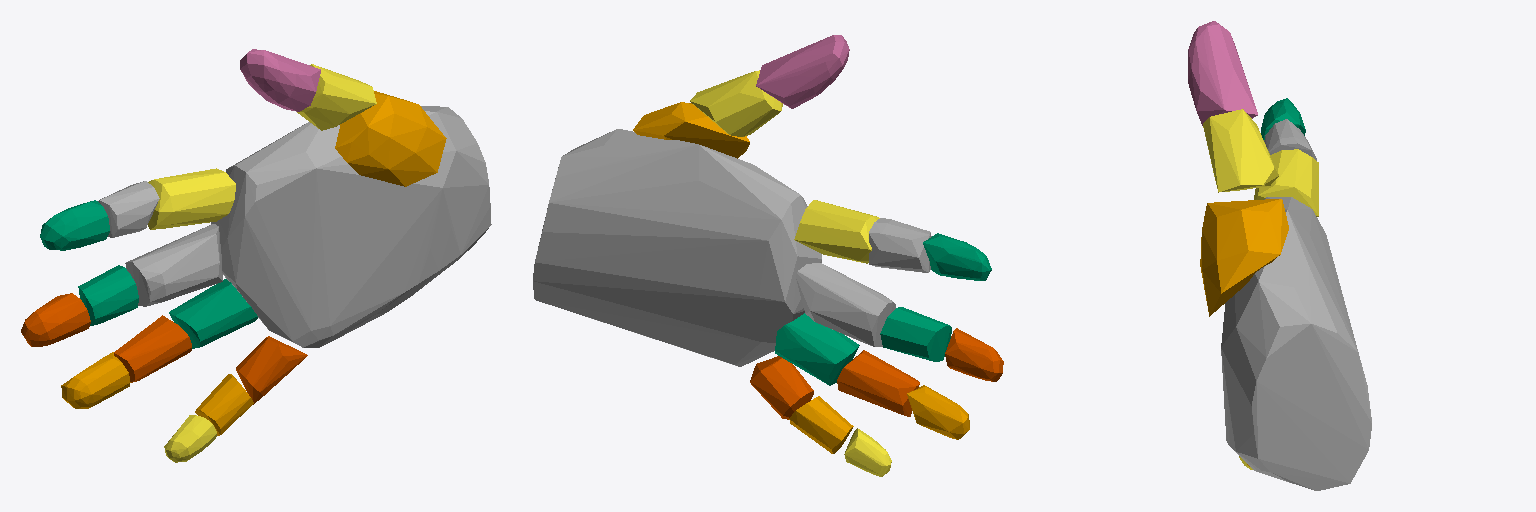
--- Render facts (derived) ---
The picture shows the robot from 3 angles, left to right: view 1: azimuth 30°, elevation 25°; view 2: azimuth 150°, elevation 25°; view 3: azimuth 270°, elevation 25°; orthographic projection.
Model mano with 64 links and 63 joints (48 revolute, 3 prismatic, 12 fixed), rooted at world, posed every joint at zero.
Links seen in each view (by area): view 1: link_palm_rz, link_th_pm_z, link_mf_pm_z, link_ff_pm_z, link_th_dd_z, link_rf_pm_z, link_rf_md_z, link_th_md_z, link_ff_dd_z, link_mf_dd_z, link_lf_pm_z, link_mf_md_z (+4 smaller); view 2: link_palm_rz, link_mf_pm_z, link_th_dd_z, link_rf_pm_z, link_ff_pm_z, link_th_md_z, link_th_pm_z, link_rf_md_z, link_mf_md_z, link_ff_md_z, link_lf_pm_z, link_ff_dd_z (+4 smaller); view 3: link_palm_rz, link_th_pm_z, link_th_dd_z, link_th_md_z, link_ff_pm_z, link_ff_md_z, link_ff_dd_z.
Boxes of the visible links, left/top/right/bottom form: link_palm_rz: left=211, top=106, right=491, bottom=347; link_th_pm_z: left=335, top=91, right=446, bottom=186; link_mf_pm_z: left=125, top=224, right=222, bottom=306; link_ff_pm_z: left=148, top=168, right=235, bottom=229; link_th_dd_z: left=240, top=49, right=320, bottom=111; link_rf_pm_z: left=169, top=279, right=257, bottom=348; link_rf_md_z: left=114, top=315, right=191, bottom=382; link_th_md_z: left=297, top=64, right=376, bottom=130; link_ff_dd_z: left=40, top=200, right=109, bottom=250; link_mf_dd_z: left=21, top=293, right=90, bottom=346; link_lf_pm_z: left=236, top=336, right=307, bottom=404; link_mf_md_z: left=78, top=265, right=138, bottom=325; link_palm_rz: left=533, top=129, right=821, bottom=366; link_mf_pm_z: left=796, top=263, right=895, bottom=346; link_th_dd_z: left=756, top=35, right=849, bottom=108; link_rf_pm_z: left=775, top=313, right=859, bottom=385; link_ff_pm_z: left=794, top=200, right=879, bottom=263; link_th_md_z: left=690, top=70, right=782, bottom=136; link_th_pm_z: left=633, top=102, right=749, bottom=158; link_rf_md_z: left=837, top=350, right=919, bottom=416; link_mf_md_z: left=880, top=307, right=951, bottom=361; link_ff_md_z: left=869, top=218, right=931, bottom=272; link_lf_pm_z: left=750, top=356, right=813, bottom=419; link_ff_dd_z: left=923, top=233, right=991, bottom=280; link_palm_rz: left=1221, top=197, right=1371, bottom=490; link_th_pm_z: left=1200, top=199, right=1288, bottom=316; link_th_dd_z: left=1188, top=21, right=1257, bottom=125; link_th_md_z: left=1203, top=109, right=1278, bottom=192; link_ff_pm_z: left=1254, top=149, right=1318, bottom=216; link_ff_md_z: left=1264, top=119, right=1316, bottom=160; link_ff_dd_z: left=1261, top=98, right=1305, bottom=139.
Bounding box of the posed robot: 0.1951 × 0.0594 × 0.1689 m (x, y, z).
Meshes: 16 distinct files referenced, 16 mesh visuals loaded (16 OBJ).

The robot description file, URDF, robot "mano":
<?xml version="0.0" ?>
<robot name="mano">



  <link name="world">  </link>

  <joint name="world_to_base" type="fixed">
    <axis xyz="0 0 0"/>
    <origin xyz="0.0 0.0 0.0"/>
    <parent link="world"/>
    <child link="sliderBar"/>
  </joint>

  <link name="sliderBar">
    <inertial>
      <mass value="0"/>
      <inertia ixx="1.0" ixy="0.0" ixz="0.0" iyy="1.0" iyz="0.0" izz="1.0"/>
    </inertial>
  </link>

    <!--
      Palm
    -->
    <!-- Palm -->
    <link name="palm">
		<inertial>
			<origin rpy="1.58112 0.01503 1.64315" xyz="-0.03429 -0.00198 0.00005"/>
			<mass value="0.05042"/>
			<inertia ixx="0.00043" ixy="0" ixz="0" iyy="0.00029" iyz="0" izz="0.00020"/>
		</inertial>
    </link>

    <link name="link_palm_y">
        <inertial>
            <origin rpy="0.00000 -0.00000 0.00000" xyz="0.00000 0.00000 0.00000"/>
            <mass value="0.00000"/>
            <inertia ixx="0.00000" ixy="0" ixz="0" iyy="0.00000" iyz="0" izz="0.00000"/>
        </inertial>
    </link>
    <link name="link_palm_z">
        <inertial>
            <origin rpy="0.00000 -0.00000 0.00000" xyz="0.00000 0.00000 0.00000"/>
            <mass value="0.00000"/>
            <inertia ixx="0.00000" ixy="0" ixz="0" iyy="0.00000" iyz="0" izz="0.00000"/>
        </inertial>
    </link>
    <link name="link_palm_rx">
        <inertial>
            <origin rpy="0.00000 -0.00000 0.00000" xyz="0.00000 0.00000 0.00000"/>
            <mass value="0.00000"/>
            <inertia ixx="0.00000" ixy="0" ixz="0" iyy="0.00000" iyz="0" izz="0.00000"/>
        </inertial>
    </link>
    <link name="link_palm_ry">
        <inertial>
            <origin rpy="0.00000 -0.00000 0.00000" xyz="0.00000 0.00000 0.00000"/>
            <mass value="0.00000"/>
            <inertia ixx="0.00000" ixy="0" ixz="0" iyy="0.00000" iyz="0" izz="0.00000"/>
        </inertial>
    </link>
    <link name="link_palm_rz">
        <inertial>
            <origin rpy="0.00000 -0.00000 0.00000" xyz="0.00000 0.00000 0.00000"/>
            <mass value="0.00001"/>
            <inertia ixx="0.00000" ixy="0" ixz="0" iyy="0.00000" iyz="0" izz="0.00000"/>
        </inertial>
        <visual>
            <origin rpy="0 0 0.0" xyz="0 0 0"/>
            <geometry>
                <mesh filename="meshes/palm_mean.obj" scale="1 1 1"/>
            </geometry>
        </visual>
        <collision>
            <origin rpy="0 0 0.0" xyz="0 0 0"/>
            <geometry>
                <mesh filename="meshes/palm_mean.obj" scale="1 1 1"/>
            </geometry>
          <material name="">
            <contact name="finger"/>
          </material>
        </collision>
    </link>
    <!-- Hip joint -->
   <joint name="WRJ0x" type="prismatic">
        <parent link="sliderBar"/>
        <child link="palm"/>
        <origin xyz="0.0 0.0 0.0"/>
        <axis xyz="1 0 0"/>
        <limit effort="100.0" lower="-0.5" upper="0.5" />
        <dynamics damping="10.0" friction="0.0001"/>
    </joint>
    <joint name="WRJ0y" type="prismatic">
        <parent link="palm"/>
        <child link="link_palm_y"/>
        <origin xyz="0.0 0.0 0.0"/>
        <axis xyz="0 1 0"/>
        <limit effort="100.0" lower="-0.5" upper="0.5" />
        <dynamics damping="10.0" friction="0.0001"/>
    </joint>
    <joint name="WRJ0z" type="prismatic">
        <parent link="link_palm_y"/>
        <child link="link_palm_z"/>
        <origin xyz="0.0 0.0 0.0"/>
        <axis xyz="0 0 1"/>
        <limit effort="100.0" lower="-0.5" upper="0.5"/>
        <dynamics damping="10.0" friction="0.0001"/>
    </joint>
    <joint name="WRJ0rx" type="revolute">
        <parent link="link_palm_z"/>
        <child link="link_palm_rx"/>
        <origin xyz="0.0 0.0 0.0"/>
        <axis xyz="1 0 0"/>
        <limit effort="1000" lower="-3.14" upper="3.14" />

        <dynamics   damping="1.0" friction="0.0001"/>
    </joint>
    <joint name="WRJ0ry" type="revolute">
        <parent link="link_palm_rx"/>
        <child link="link_palm_ry"/>
        <origin xyz="0.0 0.0 0.0"/>
        <axis xyz="0 1 0"/>
        <limit effort="1000" lower="-3.14" upper="3.14"  />

        <dynamics   damping="1.0" friction="0.0001"/>
    </joint>
    <joint name="WRJ0rz" type="revolute">
        <parent link="link_palm_ry"/>
        <child link="link_palm_rz"/>
        <origin xyz="0.0 0.0 0.0"/>
        <axis xyz="0 0 1"/>
        <limit effort="1000" lower="-3.14" upper="3.14"  />
        <dynamics   damping="1.0" friction="0.0001"/>
    </joint>


     <!-- FF -->
    <link name="fffixed">
        <inertial>
            <origin rpy="0.00000 -0.00000 0.00000" xyz="0.00000 0.00000 0.00000"/>
            <mass value="0.0"/>
            <inertia ixx="0.00000" ixy="0" ixz="0" iyy="0.00000" iyz="0" izz="0.00000"/>
        </inertial>
    </link>
    <!-- Fix Finger joint -->
    <joint name="Palm_FFJ2" type="fixed">
        <parent link="link_palm_rz"/>
        <child link="fffixed"/>
        <origin xyz="0.0 0.0 0.0"/>
    </joint>


    <link name="ffproximal">
		<inertial>
			<origin rpy="-0.62614 -1.47063 -2.57808" xyz="0.06969 0.00857 -0.01920"/>
			<mass value="0.00845"/>
			<inertia ixx="0.00000" ixy="0" ixz="0" iyy="0.00000" iyz="0" izz="0.00000"/>
		</inertial>
    </link>
    <link name="link_ff_pm_y">
        <inertial>
            <origin rpy="0.00000 -0.00000 0.00000" xyz="0.00000 0.00000 0.00000"/>
            <mass value="0.00000"/>
            <inertia ixx="0.00000" ixy="0" ixz="0" iyy="0.00000" iyz="0" izz="0.00000"/>
        </inertial>
    </link>
    <link name="link_ff_pm_z">
        <inertial>
            <origin rpy="0.00000 -0.00000 0.00000" xyz="0.00000 0.00000 0.00000"/>
            <mass value="0.00001"/>
            <inertia ixx="0.00000" ixy="0" ixz="0" iyy="0.00000" iyz="0" izz="0.00000"/>
        </inertial>
        <collision>
           <origin rpy="0 0 0.0" xyz="0 0 0"/>
           <geometry>
               <mesh filename="meshes/ffprox_mean.obj" scale="1 1 1"/>
           </geometry>
          <material name="">
            <contact name="finger"/>
          </material>
       </collision>
       <visual>
           <origin rpy="0 0 0.0" xyz="0 0 0"/>
           <geometry>
               <mesh filename="meshes/ffprox_mean.obj" scale="1 1 1"/>
           </geometry>
       </visual>
    </link>
    <!-- FF2 proximal joint -->
    <joint name="FFJ2" type="revolute">
        <parent link="fffixed"/>
        <child link="ffproximal"/>
        <origin xyz="-0.0880972 -0.00520036 0.020686"/>
        <axis xyz="1 0 0"/>
        <limit effort="1000" lower="-0.25000" upper="0.25000" />

        <dynamics   damping="1.0" friction="0.0001"/>
    </joint>
    <joint name="FFJ2_y" type="revolute">
        <parent link="ffproximal"/>
        <child link="link_ff_pm_y"/>
        <origin xyz="0 0 0"/>
        <axis xyz="0 1 0"/>
        <limit effort="1000" lower="-0.8" upper="0.8" />

        <dynamics   damping="1.0" friction="0.0001"/>
    </joint>
    <joint name="FFJ2_z" type="revolute">
        <parent link="link_ff_pm_y"/>
        <child link="link_ff_pm_z"/>
        <origin xyz="0 0 0"/>
        <axis xyz="0 0 1"/>
        <limit effort="1000" lower="-0.0" upper="1.57" />

        <dynamics   damping="1.0" friction="0.0001"/>
    </joint>

  <link name="ffmiddle_fixed">
        <inertial>
            <origin rpy="0.00000 -0.00000 0.00000" xyz="0.00000 0.00000 0.00000"/>
            <mass value="0.0"/>
            <inertia ixx="0.00000" ixy="0" ixz="0" iyy="0.00000" iyz="0" izz="0.00000"/>
        </inertial>
    </link>
    <link name="ffmiddle">
		<inertial>
			<origin rpy="1.37262 -0.25251 1.73296" xyz="0.10956 0.00102 -0.02288"/>
			<mass value="0.00413"/>
			<inertia ixx="0.00000" ixy="0" ixz="0" iyy="0.00000" iyz="0" izz="0.00000"/>
		</inertial>
    </link>
    <link name="link_ff_md_y">
        <inertial>
            <origin rpy="0.00000 -0.00000 0.00000" xyz="0.00000 0.00000 0.00000"/>
            <mass value="0.00000"/>
            <inertia ixx="0.00000" ixy="0" ixz="0" iyy="0.00000" iyz="0" izz="0.00000"/>
        </inertial>
    </link>
    <link name="link_ff_md_z">
        <inertial>
            <origin rpy="0.00000 -0.00000 0.00000" xyz="0.00000 0.00000 0.00000"/>
            <mass value="0.00001"/>
            <inertia ixx="0.00000" ixy="0" ixz="0" iyy="0.00000" iyz="0" izz="0.00000"/>
        </inertial>
        <collision>
           <origin rpy="0 0 0.0" xyz="0 0 0"/>
           <geometry>
               <mesh filename="meshes/ffmiddle_mean.obj" scale="1 1 1"/>
           </geometry>
          <material name="">
            <contact name="finger"/>
          </material>
       </collision>
       <visual>
           <origin rpy="0 0 0.0" xyz="0 0 0"/>
           <geometry>
               <mesh filename="meshes/ffmiddle_mean.obj" scale="1 1 1"/>
           </geometry>
       </visual>
    </link>
    <!-- FF1 joint -->
    <joint name="FFJ1_f" type="fixed">
        <parent link="link_ff_pm_z"/>
        <child link="ffmiddle_fixed"/>
        <origin xyz="-0.0326789 0.00400935 0.00221706"/>
        <axis xyz="1 0 0"/>
    </joint>
    <joint name="FFJ1" type="revolute">
        <parent link="ffmiddle_fixed"/>
        <child link="ffmiddle"/>
        <origin xyz="0.0 0.0 0.0"/>
        <axis xyz="1 0 0"/>
        <limit effort="1000" lower="-0.25000" upper="0.25000" />

        <dynamics   damping="1.0" friction="0.0001"/>
    </joint>
    <joint name="FFJ1_y" type="revolute">
        <parent link="ffmiddle"/>
        <child link="link_ff_md_y"/>
        <origin xyz="0.0 0.0 0.0"/>
        <axis xyz="0 1 0"/>
        <limit effort="1000" lower="-0.25000" upper="0.25000" />

        <dynamics   damping="1.0" friction="0.0001"/>
    </joint>
    <joint name="FFJ1_z" type="revolute">
        <parent link="link_ff_md_y"/>
        <child link="link_ff_md_z"/>
        <origin xyz="0.0 0.0 0.0"/>
        <axis xyz="0 0 1"/>
        <limit effort="1000" lower="-0.5000" upper="1.57" />

        <dynamics   damping="1.0" friction="0.0001"/>
    </joint>

    <link name="ffdistal">
		<inertial>
			<origin rpy="1.46564 0.28965 1.52696" xyz="0.13180 0.00199 -0.02293"/>
			<mass value="0.00293"/>
			<inertia ixx="0.00000" ixy="0" ixz="0" iyy="0.00000" iyz="0" izz="0.00000"/>
		</inertial>
    </link>
    <link name="link_ff_dd_y">
        <inertial>
            <origin rpy="0.00000 -0.00000 0.00000" xyz="0.00000 0.00000 0.00000"/>
            <mass value="0.00000"/>
            <inertia ixx="0.00000" ixy="0" ixz="0" iyy="0.00000" iyz="0" izz="0.00000"/>
        </inertial>
    </link>
    <link name="link_ff_dd_z">
        <inertial>
            <origin rpy="0.00000 -0.00000 0.00000" xyz="0.00000 0.00000 0.00000"/>
            <mass value="0.00001"/>
            <inertia ixx="0.00000" ixy="0" ixz="0" iyy="0.00000" iyz="0" izz="0.00000"/>
        </inertial>
        <collision>
           <origin rpy="0 0 0.0" xyz="0 0 0"/>
           <geometry>
               <mesh filename="meshes/ffdist_mean.obj" scale="1 1 1"/>
           </geometry>
          <material name="">
            <contact name="finger"/>
          </material>
       </collision>
       <visual>
           <origin rpy="0 0 0.0" xyz="0 0 0"/>
           <geometry>
               <mesh filename="meshes/ffdist_mean.obj" scale="1 1 1"/>
           </geometry>
       </visual>
    </link>
    <!-- FF1 joint -->
    <joint name="FFJ0" type="revolute">
        <parent link="link_ff_md_z"/>
        <child link="ffdistal"/>
        <origin xyz="-0.0221559 -0.00129842 -0.000114109"/>
        <axis xyz="1 0 0"/>
        <limit effort="1000" lower="-0.25000" upper="0.25000" />

        <dynamics   damping="1.0" friction="0.0001"/>
    </joint>
    <joint name="FFJ0_y" type="revolute">
        <parent link="ffdistal"/>
        <child link="link_ff_dd_y"/>
        <origin xyz="0.0 0.0 0.0"/>
        <axis xyz="0 1 0"/>
        <limit effort="1000" lower="-0.25000" upper="0.25000" />

        <dynamics   damping="1.0" friction="0.0001"/>
    </joint>
    <joint name="FFJ0_z" type="revolute">
        <parent link="link_ff_dd_y"/>
        <child link="link_ff_dd_z"/>
        <origin xyz="0.0 0.0 0.0"/>
        <axis xyz="0 0 1"/>
        <limit effort="1000" lower="-0.000" upper="1.57" />

        <dynamics   damping="1.0" friction="0.0001"/>
    </joint>

    <link name="link_fftip">
                <inertial>
                    <origin rpy="0.00000 -0.00000 0.00000" xyz="0.00000 0.00000 0.00000"/>
                    <mass value="0.00000"/>
                    <inertia ixx="0.00000" ixy="0" ixz="0" iyy="0.00000" iyz="0" izz="0.00000"/>
                </inertial>
    </link>
        <!-- Fix Finger joint -->
    <joint name="FFTip" type="fixed">
            <parent link="link_ff_dd_z"/>
            <child link="link_fftip"/>
            <origin xyz="-0.02326277  0.00071796  0.00404926"/>
    </joint>

    <!-- MF -->
    <link name="mffixed">
        <inertial>
            <origin rpy="0.00000 -0.00000 0.00000" xyz="0.00000 0.00000 0.00000"/>
            <mass value="0.0"/>
            <inertia ixx="0.00000" ixy="0" ixz="0" iyy="0.00000" iyz="0" izz="0.00000"/>
        </inertial>
    </link>
    <!-- Fix Finger joint -->
    <joint name="Palm_MFJ2" type="fixed">
        <parent link="link_palm_rz"/>
        <child link="mffixed"/>
        <origin xyz="0.0 0.0 0.0"/>
    </joint>


    <link name="mfproximal">
		<inertial>
			<origin rpy="1.32892 0.20760 1.52264" xyz="0.08062 0.00385 0.00038"/>
			<mass value="0.00996"/>
			<inertia ixx="0.00000" ixy="0" ixz="0" iyy="0.00000" iyz="0" izz="0.00000"/>
		</inertial>
    </link>
    <link name="link_mf_pm_y">
        <inertial>
            <origin rpy="0.00000 -0.00000 0.00000" xyz="0.00000 0.00000 0.00000"/>
            <mass value="0.00000"/>
            <inertia ixx="0.00000" ixy="0" ixz="0" iyy="0.00000" iyz="0" izz="0.00000"/>
        </inertial>
    </link>
    <link name="link_mf_pm_z">
        <inertial>
            <origin rpy="0.00000 -0.00000 0.00000" xyz="0.00000 0.00000 0.00000"/>
            <mass value="0.00001"/>
            <inertia ixx="0.00000" ixy="0" ixz="0" iyy="0.00000" iyz="0" izz="0.00000"/>
        </inertial>
        <collision>
           <origin rpy="0 0 0.0" xyz="0 0 0"/>
           <geometry>
               <mesh filename="meshes/mfprox_mean.obj" scale="1 1 1"/>
           </geometry>
          <material name="">
            <contact name="finger"/>
          </material>
       </collision>
       <visual>
           <origin rpy="0 0 0.0" xyz="0 0 0"/>
           <geometry>
               <mesh filename="meshes/mfprox_mean.obj" scale="1 1 1"/>
           </geometry>
       </visual>

    </link>
    <!-- MF2 proximal joint -->
    <joint name="MFJ2" type="revolute">
        <parent link="mffixed"/>
        <child link="mfproximal"/>
        <origin xyz="-0.0946604 -0.00147896 -0.00335754"/>
        <axis xyz="1 0 0"/>
        <limit effort="1000" lower="-0.25000" upper="0.25000" />

        <dynamics   damping="1.0" friction="0.0001"/>
    </joint>
    <joint name="MFJ2_y" type="revolute">
        <parent link="mfproximal"/>
        <child link="link_mf_pm_y"/>
        <origin xyz="0.0 0.0 0.0"/>
        <axis xyz="0 1 0"/>
        <limit effort="1000" lower="-0.8" upper="0.8" />

        <dynamics   damping="1.0" friction="0.0001"/>
    </joint>
    <joint name="MFJ2_z" type="revolute">
        <parent link="link_mf_pm_y"/>
        <child link="link_mf_pm_z"/>
        <origin xyz="0.0 0.0 0.0"/>
        <axis xyz="0 0 1"/>
        <limit effort="1000" lower="-0.0" upper="1.57" />

        <dynamics   damping="1.0" friction="0.0001"/>
    </joint>

    <link name="mfmiddle">
		<inertial>
			<origin rpy="1.36785 0.19063 1.79335" xyz="0.11276 -0.00059 0.00674"/>
			<mass value="0.00400"/>
			<inertia ixx="0.00000" ixy="0" ixz="0" iyy="0.00000" iyz="0" izz="0.00000"/>
		</inertial>
    </link>
    <link name="link_mf_md_y">
        <inertial>
            <origin rpy="0.00000 -0.00000 0.00000" xyz="0.00000 0.00000 0.00000"/>
            <mass value="0.00000"/>
            <inertia ixx="0.00000" ixy="0" ixz="0" iyy="0.00000" iyz="0" izz="0.00000"/>
        </inertial>
    </link>
    <link name="link_mf_md_z">
        <inertial>
            <origin rpy="0.00000 -0.00000 0.00000" xyz="0.00000 0.00000 0.00000"/>
            <mass value="0.00001"/>
            <inertia ixx="0.00000" ixy="0" ixz="0" iyy="0.00000" iyz="0" izz="0.00000"/>
        </inertial>
    <collision>
       <origin rpy="0 0 0.0" xyz="0 0 0"/>
       <geometry>
           <mesh filename="meshes/mfmiddle_mean.obj" scale="1 1 1"/>
       </geometry>
      <material name="">
        <contact name="finger"/>
      </material>
   </collision>
   <visual>
       <origin rpy="0 0 0.0" xyz="0 0 0"/>
       <geometry>
           <mesh filename="meshes/mfmiddle_mean.obj" scale="1 1 1"/>
       </geometry>
   </visual>
    </link>
    <!-- MF1 joint -->
    <joint name="MFJ1" type="revolute">
        <parent link="link_mf_pm_z"/>
        <child link="mfmiddle"/>
        <origin xyz="-0.0311827 0.00186133 -0.00559451"/>
        <axis xyz="1 0 0"/>
        <limit effort="1000" lower="-0.25000" upper="0.25000" />

        <dynamics   damping="1.0" friction="0.0001"/>
    </joint>
    <joint name="MFJ1_y" type="revolute">
        <parent link="mfmiddle"/>
        <child link="link_mf_md_y"/>
        <origin xyz="0.0 0.0 0.0"/>
        <axis xyz="0 1 0"/>
        <limit effort="1000" lower="-0.25000" upper="0.25000" />

        <dynamics   damping="1.0" friction="0.0001"/>
    </joint>
    <joint name="MFJ1_z" type="revolute">
        <parent link="link_mf_md_y"/>
        <child link="link_mf_md_z"/>
        <origin xyz="0.0 0.0 0.0"/>
        <axis xyz="0 0 1"/>
        <limit effort="1000" lower="-0.000" upper="1.57" />

        <dynamics   damping="1.0" friction="0.0001"/>
    </joint>

    <link name="mfdistal">
		<inertial>
			<origin rpy="1.31977 0.24217 1.38225" xyz="0.13534 0.00074 0.01081"/>
			<mass value="0.00289"/>
			<inertia ixx="0.00000" ixy="0" ixz="0" iyy="0.00000" iyz="0" izz="0.00000"/>
		</inertial>
    </link>
    <link name="link_mf_dd_y">
        <inertial>
            <origin rpy="0.00000 -0.00000 0.00000" xyz="0.00000 0.00000 0.00000"/>
            <mass value="0.00000"/>
            <inertia ixx="0.00000" ixy="0" ixz="0" iyy="0.00000" iyz="0" izz="0.00000"/>
        </inertial>
    </link>
    <link name="link_mf_dd_z">
        <inertial>
            <origin rpy="0.00000 -0.00000 0.00000" xyz="0.00000 0.00000 0.00000"/>
            <mass value="0.00001"/>
            <inertia ixx="0.00000" ixy="0" ixz="0" iyy="0.00000" iyz="0" izz="0.00000"/>
        </inertial>
        <collision>
           <origin rpy="0 0 0.0" xyz="0 0 0"/>
           <geometry>
               <mesh filename="meshes/mfdist_mean.obj" scale="1 1 1"/>
           </geometry>
          <material name="">
            <contact name="finger"/>
          </material>
       </collision>
       <visual>
           <origin rpy="0 0 0.0" xyz="0 0 0"/>
           <geometry>
               <mesh filename="meshes/mfdist_mean.obj" scale="1 1 1"/>
           </geometry>
       </visual>
    </link>
    <!-- MF0 joint -->
    <joint name="MFJ0" type="revolute">
        <parent link="link_mf_md_z"/>
        <child link="mfdistal"/>
        <origin xyz="-0.0229046 -0.0012521 -0.00394452"/>
        <axis xyz="1 0 0"/>
        <limit effort="1000" lower="-0.25000" upper="0.25000" />

        <dynamics   damping="1.0" friction="0.0001"/>
    </joint>
    <joint name="MFJ0_y" type="revolute">
        <parent link="mfdistal"/>
        <child link="link_mf_dd_y"/>
        <origin xyz="0.0 0.0 0.0"/>
        <axis xyz="0 1 0"/>
        <limit effort="1000" lower="-0.25000" upper="0.25000" />

        <dynamics   damping="1.0" friction="0.0001"/>
    </joint>
    <joint name="MFJ0_z" type="revolute">
        <parent link="link_mf_dd_y"/>
        <child link="link_mf_dd_z"/>
        <origin xyz="0.0 0.0 0.0"/>
        <axis xyz="0 0 1"/>
        <limit effort="1000" lower="-0.000" upper="1.57" />

        <dynamics   damping="1.0" friction="0.0001"/>
    </joint>

    <link name="link_mftip">
            <inertial>
                <origin rpy="0.00000 -0.00000 0.00000" xyz="0.00000 0.00000 0.00000"/>
                <mass value="0.00000"/>
                <inertia ixx="0.00000" ixy="0" ixz="0" iyy="0.00000" iyz="0" izz="0.00000"/>
            </inertial>
    </link>
        <!-- Fix Finger joint -->
    <joint name="MFTip" type="fixed">
            <parent link="link_mf_dd_z"/>
            <child link="link_mftip"/>
            <origin xyz="-0.03103006 -0.0014151  -0.00637153"/>

    </joint>

    <!-- RF -->
    <link name="rffixed">
        <inertial>
            <origin rpy="0.00000 -0.00000 0.00000" xyz="0.00000 0.00000 0.00000"/>
            <mass value="0.0"/>
            <inertia ixx="0.00000" ixy="0" ixz="0" iyy="0.00000" iyz="0" izz="0.00000"/>
        </inertial>
    </link>

    <!-- Fix Finger joint -->
    <joint name="Palm_RFJ2" type="fixed">
        <parent link="link_palm_rz"/>
        <child link="rffixed"/>
        <origin xyz="0.0 0.0 0.0"/>
    </joint>


    <link name="rfproximal">
		<inertial>
			<origin rpy="-1.12499 -1.03767 -1.92594" xyz="0.06944 0.00644 0.02597"/>
			<mass value="0.00725"/>
			<inertia ixx="0.00000" ixy="0" ixz="0" iyy="0.00000" iyz="0" izz="0.00000"/>
		</inertial>
    </link>
    <link name="link_rf_pm_y">
        <inertial>
            <origin rpy="0.00000 -0.00000 0.00000" xyz="0.00000 0.00000 0.00000"/>
            <mass value="0.00000"/>
            <inertia ixx="0.00000" ixy="0" ixz="0" iyy="0.00000" iyz="0" izz="0.00000"/>
        </inertial>
    </link>
    <link name="link_rf_pm_z">
        <inertial>
            <origin rpy="0.00000 -0.00000 0.00000" xyz="0.00000 0.00000 0.00000"/>
            <mass value="0.00001"/>
            <inertia ixx="0.00000" ixy="0" ixz="0" iyy="0.00000" iyz="0" izz="0.00000"/>
        </inertial>
        <collision>
           <origin rpy="0 0 0.0" xyz="0 0 0"/>
           <geometry>
               <mesh filename="meshes/rfprox_mean.obj" scale="1 1 1"/>
           </geometry>
          <material name="">
            <contact name="finger"/>
          </material>
       </collision>
       <visual>
           <origin rpy="0 0 0.0" xyz="0 0 0"/>
           <geometry>
               <mesh filename="meshes/rfprox_mean.obj" scale="1 1 1"/>
           </geometry>
       </visual>
    </link>
    <!-- RF2 proximal joint -->
    <joint name="RFJ2" type="revolute">
        <parent link="rffixed"/>
        <child link="rfproximal"/>
        <origin xyz="-0.0817355 -0.00395742 -0.0266732"/>
        <axis xyz="1 0 0"/>
        <limit effort="1000" lower="-0.25000" upper="0.25000" />

        <dynamics   damping="1.0" friction="0.0001"/>
    </joint>
    <joint name="RFJ2_y" type="revolute">
        <parent link="rfproximal"/>
        <child link="link_rf_pm_y"/>
        <origin xyz="0.0 0.0 0.0"/>
        <axis xyz="0 1 0"/>
        <limit effort="1000" lower="-0.8" upper="0.8" />

        <dynamics   damping="1.0" friction="0.0001"/>
    </joint>
    <joint name="RFJ2_z" type="revolute">
        <parent link="link_rf_pm_y"/>
        <child link="link_rf_pm_z"/>
        <origin xyz="0.0 0.0 0.0"/>
        <axis xyz="0 0 1"/>
        <limit effort="1000" lower="-0.0" upper="1.57" />

        <dynamics   damping="1.0" friction="0.0001"/>
    </joint>

    <link name="rfmiddle">
		<inertial>
			<origin rpy="1.27220 0.24142 1.59300" xyz="0.09885 0.00150 0.02757"/>
			<mass value="0.00487"/>
			<inertia ixx="0.00000" ixy="0" ixz="0" iyy="0.00000" iyz="0" izz="0.00000"/>
		</inertial>
    </link>
    <link name="link_rf_md_y">
        <inertial>
            <origin rpy="0.00000 -0.00000 0.00000" xyz="0.00000 0.00000 0.00000"/>
            <mass value="0.00000"/>
            <inertia ixx="0.00000" ixy="0" ixz="0" iyy="0.00000" iyz="0" izz="0.00000"/>
        </inertial>
    </link>
    <link name="link_rf_md_z">
        <inertial>
            <origin rpy="0.00000 -0.00000 0.00000" xyz="0.00000 0.00000 0.00000"/>
            <mass value="0.00001"/>
            <inertia ixx="0.00000" ixy="0" ixz="0" iyy="0.00000" iyz="0" izz="0.00000"/>
        </inertial>
        <collision>
           <origin rpy="0 0 0.0" xyz="0 0 0"/>
           <geometry>
               <mesh filename="meshes/rfmiddle_mean.obj" scale="1 1 1"/>
           </geometry>
          <material name="">
            <contact name="finger"/>
          </material>
       </collision>
       <visual>
           <origin rpy="0 0 0.0" xyz="0 0 0"/>
           <geometry>
               <mesh filename="meshes/rfmiddle_mean.obj" scale="1 1 1"/>
           </geometry>
       </visual>
    </link>
    <!-- RF1 joint -->
    <joint name="RFJ1" type="revolute">
        <parent link="link_rf_pm_z"/>
        <child link="rfmiddle"/>
        <origin xyz="-0.0283143 0.00206701 -0.00509854"/>
        <axis xyz="1 0 0"/>
        <limit effort="1000" lower="-0.25000" upper="0.25000" />

        <dynamics   damping="1.0" friction="0.0001"/>
    </joint>
    <joint name="RFJ1_y" type="revolute">
        <parent link="rfmiddle"/>
        <child link="link_rf_md_y"/>
        <origin xyz="0.0 0.0 0.0"/>
        <axis xyz="0 1 0"/>
        <limit effort="1000" lower="-0.25000" upper="0.25000" />

        <dynamics   damping="1.0" friction="0.0001"/>
    </joint>
    <joint name="RFJ1_z" type="revolute">
        <parent link="link_rf_md_y"/>
        <child link="link_rf_md_z"/>
        <origin xyz="0.0 0.0 0.0"/>
        <axis xyz="0 0 1"/>
        <limit effort="1000" lower="-0.000" upper="1.57" />

        <dynamics   damping="1.0" friction="0.0001"/>
    </joint>

    <link name="rfdistal">
		<inertial>
			<origin rpy="1.25957 0.23826 1.45394" xyz="0.12158 0.00349 0.03689"/>
			<mass value="0.00272"/>
			<inertia ixx="0.00000" ixy="0" ixz="0" iyy="0.00000" iyz="0" izz="0.00000"/>
		</inertial>
    </link>
    <link name="link_rf_dd_y">
        <inertial>
            <origin rpy="0.00000 -0.00000 0.00000" xyz="0.00000 0.00000 0.00000"/>
            <mass value="0.00000"/>
            <inertia ixx="0.00000" ixy="0" ixz="0" iyy="0.00000" iyz="0" izz="0.00000"/>
        </inertial>
    </link>
    <link name="link_rf_dd_z">
        <inertial>
            <origin rpy="0.00000 -0.00000 0.00000" xyz="0.00000 0.00000 0.00000"/>
            <mass value="0.00001"/>
            <inertia ixx="0.00000" ixy="0" ixz="0" iyy="0.00000" iyz="0" izz="0.00000"/>
        </inertial>
        <collision>
         <origin rpy="0 0 0.0" xyz="0 0 0"/>
         <geometry>
             <mesh filename="meshes/rfdist_mean.obj" scale="1 1 1"/>
         </geometry>
          <material name="">
            <contact name="finger"/>
          </material>
       </collision>
       <visual>
         <origin rpy="0 0 0.0" xyz="0 0 0"/>
         <geometry>
             <mesh filename="meshes/rfdist_mean.obj" scale="1 1 1"/>
         </geometry>
       </visual>
    </link>
    <!-- RF0 joint -->
    <joint name="RFJ0" type="revolute">
        <parent link="link_rf_md_z"/>
        <child link="rfdistal"/>
        <origin xyz="-0.0235205 -0.00168811 -0.00763382"/>
        <axis xyz="1 0 0"/>
        <limit effort="1000" lower="-0.25000" upper="0.25000" />

        <dynamics   damping="1.0" friction="0.0001"/>
    </joint>
    <joint name="RFJ0_y" type="revolute">
        <parent link="rfdistal"/>
        <child link="link_rf_dd_y"/>
        <origin xyz="0.0 0.0 0.0"/>
        <axis xyz="0 1 0"/>
        <limit effort="1000" lower="-0.25000" upper="0.25000" />

        <dynamics   damping="1.0" friction="0.0001"/>
    </joint>
    <joint name="RFJ0_z" type="revolute">
        <parent link="link_rf_dd_y"/>
        <child link="link_rf_dd_z"/>
        <origin xyz="0.0 0.0 0.0"/>
        <axis xyz="0 0 1"/>
        <limit effort="1000" lower="-0.000" upper="1.57" />

        <dynamics   damping="1.0" friction="0.0001"/>
    </joint>

    <link name="link_rftip">
            <inertial>
                <origin rpy="0.00000 -0.00000 0.00000" xyz="0.00000 0.00000 0.00000"/>
                <mass value="0.00000"/>
                <inertia ixx="0.00000" ixy="0" ixz="0" iyy="0.00000" iyz="0" izz="0.00000"/>
            </inertial>
    </link>
        <!-- Fix Finger joint -->
    <joint name="RFTip" type="fixed">
            <parent link="link_rf_dd_z"/>
            <child link="link_rftip"/>
            <origin xyz="-0.02920424  0.00374213 -0.00808987"/>
    </joint>

     <!-- LF -->
    <link name="lffixed">
        <inertial>
            <origin rpy="0.00000 -0.00000 0.00000" xyz="0.00000 0.00000 0.00000"/>
            <mass value="0.0"/>
            <inertia ixx="0.00000" ixy="0" ixz="0" iyy="0.00000" iyz="0" izz="0.00000"/>
        </inertial>
    </link>
    <!-- Fix Finger joint -->
    <joint name="Palm_LFJ2" type="fixed">
        <parent link="link_palm_rz"/>
        <child link="lffixed"/>
        <origin xyz="0.0 0.0 0.0"/>
    </joint>


    <link name="lfproximal">
		<inertial>
			<origin rpy="0.98931 0.08796 1.53876" xyz="0.06149 0.01115 0.03613"/>
			<mass value="0.00416"/>
			<inertia ixx="0.00000" ixy="0" ixz="0" iyy="0.00000" iyz="0" izz="0.00000"/>
		</inertial>
    </link>
    <link name="link_lf_pm_y">
        <inertial>
            <origin rpy="0.00000 -0.00000 0.00000" xyz="0.00000 0.00000 0.00000"/>
            <mass value="0.00000"/>
            <inertia ixx="0.00000" ixy="0" ixz="0" iyy="0.00000" iyz="0" izz="0.00000"/>
        </inertial>
    </link>
    <link name="link_lf_pm_z">
        <inertial>
            <origin rpy="0.00000 -0.00000 0.00000" xyz="0.00000 0.00000 0.00000"/>
            <mass value="0.00001"/>
            <inertia ixx="0.00000" ixy="0" ixz="0" iyy="0.00000" iyz="0" izz="0.00000"/>
        </inertial>
        <collision>
           <origin rpy="0 0 0.0" xyz="0 0 0"/>
           <geometry>
               <mesh filename="meshes/lfprox_mean.obj" scale="1 1 1"/>
           </geometry>
          <material name="">
            <contact name="finger"/>
          </material>
       </collision>
       <visual>
           <origin rpy="0 0 0.0" xyz="0 0 0"/>
           <geometry>
               <mesh filename="meshes/lfprox_mean.obj" scale="1 1 1"/>
           </geometry>
       </visual>
    </link>
    <!-- LF2 proximal joint -->
    <joint name="LFJ2" type="revolute">
        <parent link="lffixed"/>
        <child link="lfproximal"/>
        <origin xyz="-0.0687869 -0.00994033 -0.0432093"/>
        <axis xyz="1 0 0"/>
        <limit effort="1000" lower="-0.25000" upper="0.25000" />

        <dynamics   damping="1.0" friction="0.0001"/>
    </joint>
    <joint name="LFJ2_y" type="revolute">
        <parent link="lfproximal"/>
        <child link="link_lf_pm_y"/>
        <origin xyz="0.0 0.0 0.0"/>
        <axis xyz="0 1 0"/>
        <limit effort="1000" lower="-0.8" upper="0.8" />

        <dynamics   damping="1.0" friction="0.0001"/>
    </joint>
    <joint name="LFJ2_z" type="revolute">
        <parent link="link_lf_pm_y"/>
        <child link="link_lf_pm_z"/>
        <origin xyz="0.0 0.0 0.0"/>
        <axis xyz="0 0 1"/>
        <limit effort="1000"  lower="-0.0" upper="1.57" />

        <dynamics   damping="1.0" friction="0.0001"/>
    </joint>

    <link name="lfmiddle">
		<inertial>
			<origin rpy="0.93554 0.47504 1.36883" xyz="0.07794 0.01096 0.04952"/>
			<mass value="0.00269"/>
			<inertia ixx="0.00000" ixy="0" ixz="0" iyy="0.00000" iyz="0" izz="0.00000"/>
		</inertial>
    </link>
    <link name="link_lf_md_y">
        <inertial>
            <origin rpy="0.00000 -0.00000 0.00000" xyz="0.00000 0.00000 0.00000"/>
            <mass value="0.00000"/>
            <inertia ixx="0.00000" ixy="0" ixz="0" iyy="0.00000" iyz="0" izz="0.00000"/>
        </inertial>
    </link>
    <link name="link_lf_md_z">
        <inertial>
            <origin rpy="0.00000 -0.00000 0.00000" xyz="0.00000 0.00000 0.00000"/>
            <mass value="0.00001"/>
            <inertia ixx="0.00000" ixy="0" ixz="0" iyy="0.00000" iyz="0" izz="0.00000"/>
        </inertial>
    <collision>
       <origin rpy="0 0 0.0" xyz="0 0 0"/>
       <geometry>
           <mesh filename="meshes/lfmiddle_mean.obj" scale="1 1 1"/>
       </geometry>
      <material name="">
        <contact name="finger"/>
      </material>
   </collision>
   <visual>
       <origin rpy="0 0 0.0" xyz="0 0 0"/>
       <geometry>
           <mesh filename="meshes/lfmiddle_mean.obj" scale="1 1 1"/>
       </geometry>
   </visual>
    </link>
    <!-- LF1 joint -->
    <joint name="LFJ1" type="revolute">
        <parent link="link_lf_pm_z"/>
        <child link="lfmiddle"/>
        <origin xyz="-0.0170144 6.18249e-05 -0.0124988"/>
        <axis xyz="1 0 0"/>
        <limit effort="1000" lower="-0.25000" upper="0.25000" />

        <dynamics   damping="1.0" friction="0.0001"/>
    </joint>
    <joint name="LFJ1_y" type="revolute">
        <parent link="lfmiddle"/>
        <child link="link_lf_md_y"/>
        <origin xyz="0.0 0.0 0.0"/>
        <axis xyz="0 1 0"/>
        <limit effort="1000" lower="-0.25000" upper="0.25000" />

        <dynamics   damping="1.0" friction="0.0001"/>
    </joint>
    <joint name="LFJ1_z" type="revolute">
        <parent link="link_lf_md_y"/>
        <child link="link_lf_md_z"/>
        <origin xyz="0.0 0.0 0.0"/>
        <axis xyz="0 0 1"/>
        <limit effort="1000" lower="-0.000" upper="1.57" />

        <dynamics   damping="1.0" friction="0.0001"/>
    </joint>

    <link name="lfdistal">
		<inertial>
			<origin rpy="1.07016 0.12658 1.51486" xyz="0.09286 0.00961 0.06201"/>
			<mass value="0.00150"/>
			<inertia ixx="0.00000" ixy="0" ixz="0" iyy="0.00000" iyz="0" izz="0.00000"/>
		</inertial>
    </link>
    <link name="link_lf_dd_y">
        <inertial>
            <origin rpy="0.00000 -0.00000 0.00000" xyz="0.00000 0.00000 0.00000"/>
            <mass value="0.00000"/>
            <inertia ixx="0.00000" ixy="0" ixz="0" iyy="0.00000" iyz="0" izz="0.00000"/>
        </inertial>
    </link>
    <link name="link_lf_dd_z">
        <inertial>
            <origin rpy="0.00000 -0.00000 0.00000" xyz="0.00000 0.00000 0.00000"/>
            <mass value="0.00001"/>
            <inertia ixx="0.00000" ixy="0" ixz="0" iyy="0.00000" iyz="0" izz="0.00000"/>
        </inertial>
        <collision>
           <origin rpy="0 0 0.0" xyz="0 0 0"/>
           <geometry>
               <mesh filename="meshes/lfdist_mean.obj" scale="1 1 1"/>
           </geometry>
          <material name="">
            <contact name="finger"/>
          </material>
       </collision>
       <visual>
           <origin rpy="0 0 0.0" xyz="0 0 0"/>
           <geometry>
               <mesh filename="meshes/lfdist_mean.obj" scale="1 1 1"/>
           </geometry>
       </visual>
    </link>
    <!-- LF0 joint -->
    <joint name="LFJ0" type="revolute">
        <parent link="link_lf_md_z"/>
        <child link="lfdistal"/>
        <origin xyz="-0.0158669 -0.000691155 -0.0103319"/>
        <axis xyz="1 0 0"/>
        <limit effort="1000" lower="-0.25000" upper="0.25000" />

        <dynamics   damping="1.0" friction="0.0001"/>
    </joint>
    <joint name="LFJ0_y" type="revolute">
        <parent link="lfdistal"/>
        <child link="link_lf_dd_y"/>
        <origin xyz="0.0 0.0 0.0"/>
        <axis xyz="0 1 0"/>
        <limit effort="1000" lower="-0.25000" upper="0.25000" />

        <dynamics   damping="1.0" friction="0.0001"/>
    </joint>
    <joint name="LFJ0_z" type="revolute">
        <parent link="link_lf_dd_y"/>
        <child link="link_lf_dd_z"/>
        <origin xyz="0.0 0.0 0.0"/>
        <axis xyz="0 0 1"/>
        <limit effort="1000" lower="-0.000" upper="1.57" />

        <dynamics   damping="1.0" friction="0.0001"/>
    </joint>
    <link name="link_lftip">
        <inertial>
            <origin rpy="0.00000 -0.00000 0.00000" xyz="0.00000 0.00000 0.00000"/>
            <mass value="0.00000"/>
            <inertia ixx="0.00000" ixy="0" ixz="0" iyy="0.00000" iyz="0" izz="0.00000"/>
        </inertial>
    </link>
    <!-- Fix Finger joint -->
    <joint name="LFTip" type="fixed">
        <parent link="link_lf_dd_z"/>
        <child link="link_lftip"/>
        <origin xyz="-0.0195595   0.0025909  -0.01148116"/>
    </joint>


    <!-- TH -->
    <link name="thfixed">
        <inertial>
            <origin rpy="0.00000 -0.00000 0.00000" xyz="0.00000 0.00000 0.00000"/>
            <mass value="0.0"/>
            <inertia ixx="0.00000" ixy="0" ixz="0" iyy="0.00000" iyz="0" izz="0.00000"/>
        </inertial>
    </link>
    <!-- Fix Finger joint -->
    <joint name="Palm_THJ2" type="fixed">
        <parent link="link_palm_rz"/>
        <child link="thfixed"/>
        <origin xyz="0.0 0.0 0.0"/>
    </joint>


    <link name="thproximal">
		<inertial>
			<origin rpy="-1.80697 -0.79472 -1.24970" xyz="0.01872 0.01295 -0.01284"/>
			<mass value="0.01392"/>
			<inertia ixx="0.00000" ixy="0" ixz="0" iyy="0.00000" iyz="0" izz="0.00000"/>
		</inertial>
    </link>
    <link name="link_th_pm_y">
        <inertial>
            <origin rpy="0.00000 -0.00000 0.00000" xyz="0.00000 0.00000 0.00000"/>
            <mass value="0.00000"/>
            <inertia ixx="0.00000" ixy="0" ixz="0" iyy="0.00000" iyz="0" izz="0.00000"/>
        </inertial>
    </link>
    <link name="link_th_pm_z">
        <inertial>
            <origin rpy="0.00000 -0.00000 0.00000" xyz="0.00000 0.00000 0.00000"/>
            <mass value="0.00001"/>
            <inertia ixx="0.00000" ixy="0" ixz="0" iyy="0.00000" iyz="0" izz="0.00000"/>
        </inertial>
        <collision>
           <origin rpy="0 0 0.0" xyz="0 0 0"/>
           <geometry>
               <mesh filename="meshes/thprox_mean.obj" scale="1 1 1"/>
           </geometry>
          <material name="">
            <contact name="finger"/>
          </material>
       </collision>

       <visual>
           <origin rpy="0 0 0.0" xyz="0 0 0"/>
           <geometry>
               <mesh filename="meshes/thprox_mean.obj" scale="1 1 1"/>
           </geometry>
       </visual>
    </link>
    <!-- TH2 proximal joint -->
    <joint name="THJ2" type="revolute">
        <parent link="thfixed"/>
        <child link="thproximal"/>
        <origin xyz="-0.0240897 -0.0155223 0.0258128"/>
        <axis xyz="1 0 0"/>
        <limit effort="1000" lower="0" upper="1.57" />
        <dynamics   damping="1.0" friction="0.0001"/>
    </joint>
    <joint name="THJ2_y" type="revolute">
        <parent link="thproximal"/>
        <child link="link_th_pm_y"/>
        <origin xyz="0.0 0.0 0.0"/>
        <axis xyz="0 1 0"/>
        <limit effort="1000" lower="-0.8" upper="0.8" />
        <dynamics   damping="1.0" friction="0.0001"/>
    </joint>
    <joint name="THJ2_z" type="revolute">
        <parent link="link_th_pm_y"/>
        <child link="link_th_pm_z"/>
        <origin xyz="0.0 0.0 0.0"/>
        <axis xyz="0 0 1"/>
        <limit effort="1000" lower="-0.25" upper="0.25" />
        <dynamics   damping="1.0" friction="0.0001"/>
    </joint>

    <link name="thmiddle">
		<inertial>
			<origin rpy="2.09811 -1.08828 1.27625" xyz="0.03297 0.01229 -0.04103"/>
			<mass value="0.00802"/>
			<inertia ixx="0.00000" ixy="0" ixz="0" iyy="0.00000" iyz="0" izz="0.00000"/>
		</inertial>
    </link>
    <link name="link_th_md_y">
        <inertial>
            <origin rpy="0.00000 -0.00000 0.00000" xyz="0.00000 0.00000 0.00000"/>
            <mass value="0.00000"/>
            <inertia ixx="0.00000" ixy="0" ixz="0" iyy="0.00000" iyz="0" izz="0.00000"/>
        </inertial>
    </link>
    <link name="link_th_md_z">
        <inertial>
            <origin rpy="0.00000 -0.00000 0.00000" xyz="0.00000 0.00000 0.00000"/>
            <mass value="0.00001"/>
            <inertia ixx="0.00000" ixy="0" ixz="0" iyy="0.00000" iyz="0" izz="0.00000"/>
        </inertial>
        <collision>
           <origin rpy="0 0 0.0" xyz="0 0 0"/>
           <geometry>
               <mesh filename="meshes/thmiddle_mean.obj" scale="1 1 1"/>
           </geometry>
          <material name="">
            <contact name="finger"/>
          </material>
       </collision>
       <visual>
           <origin rpy="0 0 0.0" xyz="0 0 0"/>
           <geometry>
               <mesh filename="meshes/thmiddle_mean.obj" scale="1 1 1"/>
           </geometry>
       </visual>
    </link>
    <!-- TH1 joint -->
    <joint name="THJ1" type="revolute">
        <parent link="link_th_pm_z"/>
        <child link="thmiddle"/>
        <origin xyz="-0.0196332 0.000891286 0.0236995"/>
        <axis xyz="1 0 0"/>
        <limit effort="1000" lower="-1" upper="1" />
        <dynamics   damping="1.0" friction="0.0001"/>
    </joint>
    <joint name="THJ1_y" type="revolute">
        <parent link="thmiddle"/>
        <child link="link_th_md_y"/>
        <origin xyz="0.0 0.0 0.0"/>
        <axis xyz="0 1 0"/>
        <limit effort="1000" lower="-0.5" upper="0.5" />
        <dynamics   damping="1.0" friction="0.0001"/>
    </joint>
    <joint name="THJ1_z" type="revolute">
        <parent link="link_th_md_y"/>
        <child link="link_th_md_z"/>
        <origin xyz="0.0 0.0 0.0"/>
        <axis xyz="0 0 1"/>
        <limit effort="1000" lower="-0.5" upper="0.5" />
        <dynamics   damping="1.0" friction="0.0001"/>
    </joint>

    <link name="thdistal">
    <inertial>
        <origin rpy="2.56484 -0.79342 0.95392" xyz="0.05414 0.01779 -0.05485"/>
        <mass value="0.00726"/>
        <inertia ixx="0.00000" ixy="0" ixz="0" iyy="0.00000" iyz="0" izz="0.00000"/>
    </inertial>
    </link>
    <link name="link_th_dd_y">
        <inertial>
            <origin rpy="0.00000 -0.00000 0.00000" xyz="0.00000 0.00000 0.00000"/>
            <mass value="0.00000"/>
            <inertia ixx="0.00000" ixy="0" ixz="0" iyy="0.00000" iyz="0" izz="0.00000"/>
        </inertial>
    </link>
    <link name="link_th_dd_z">
        <inertial>
            <origin rpy="0.00000 -0.00000 0.00000" xyz="0.00000 0.00000 0.00000"/>
            <mass value="0.00001"/>
            <inertia ixx="0.00000" ixy="0" ixz="0" iyy="0.00000" iyz="0" izz="0.00000"/>
        </inertial>
        <collision>
           <origin rpy="0 0 0.0" xyz="0 0 0"/>
           <geometry>
               <mesh filename="meshes/thdist_mean.obj" scale="1 1 1"/>
           </geometry>
          <material name="">
              <contact name="finger"/>
          </material>
       </collision>
       <visual>
           <origin rpy="0 0 0.0" xyz="0 0 0"/>
           <geometry>
               <mesh filename="meshes/thdist_mean.obj" scale="1 1 1"/>
           </geometry>
       </visual>
    </link>
    <!-- TH0 joint -->
    <joint name="THJ0" type="revolute">
        <parent link="link_th_md_z"/>
        <child link="thdistal"/>
        <origin xyz="-0.0222177 -0.00543297 0.0145241"/>
        <axis xyz="1 0 0"/>
        <limit effort="1000" lower="-0.000" upper="1.57" />
        <dynamics   damping="1.0" friction="0.0001"/>
    </joint>
    <joint name="THJ0_y" type="revolute">
        <parent link="thdistal"/>
        <child link="link_th_dd_y"/>
        <origin xyz="0.0 0.0 0.0"/>
        <axis xyz="0 1 0"/>
        <limit effort="1000" lower="-1.0000" upper="1.0000" />

        <dynamics   damping="1.0" friction="0.0001"/>
    </joint>
    <joint name="THJ0_z" type="revolute">
        <parent link="link_th_dd_y"/>
        <child link="link_th_dd_z"/>
        <origin xyz="0.0 0.0 0.0"/>
        <axis xyz="0 0 1"/>
        <limit effort="1000" lower="-1.0000" upper="1.0000" />

        <dynamics   damping="1.0" friction="0.0001"/>
    </joint>
    <link name="link_thtip">
        <inertial>
            <origin rpy="0.00000 -0.00000 0.00000" xyz="0.00000 0.00000 0.00000"/>
            <mass value="0.00000"/>
            <inertia ixx="0.00000" ixy="0" ixz="0" iyy="0.00000" iyz="0" izz="0.00000"/>
        </inertial>
    </link>
    <!-- Fix Finger joint -->
    <joint name="THTip" type="fixed">
        <parent link="link_th_dd_z"/>
        <child link="link_thtip"/>
        <origin xyz="-0.0315493  -0.00652654  0.02048647"/>
    </joint>


</robot>
